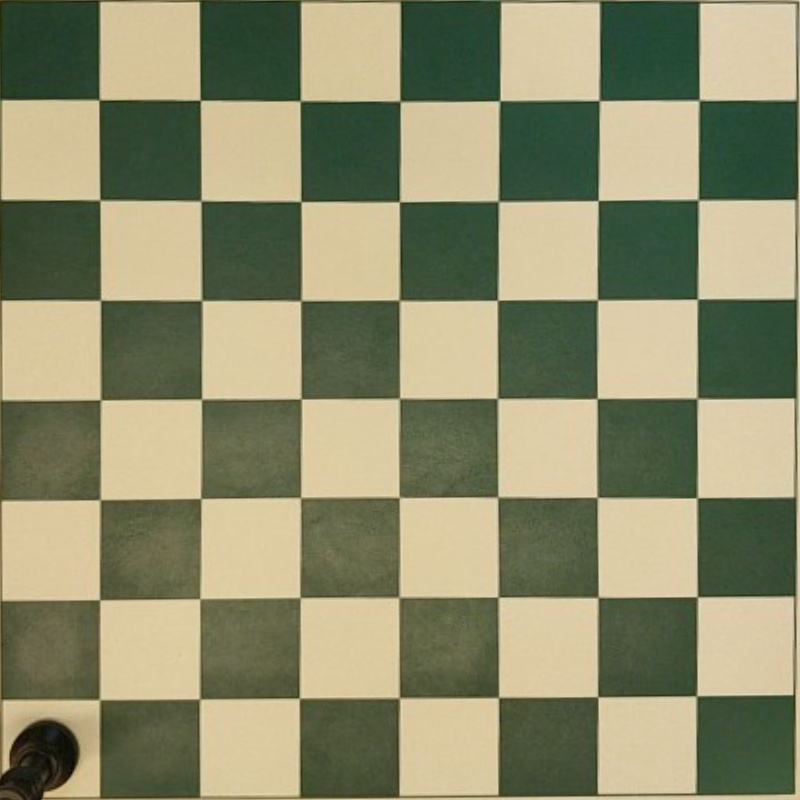black-king: (0, 719, 79, 800)
